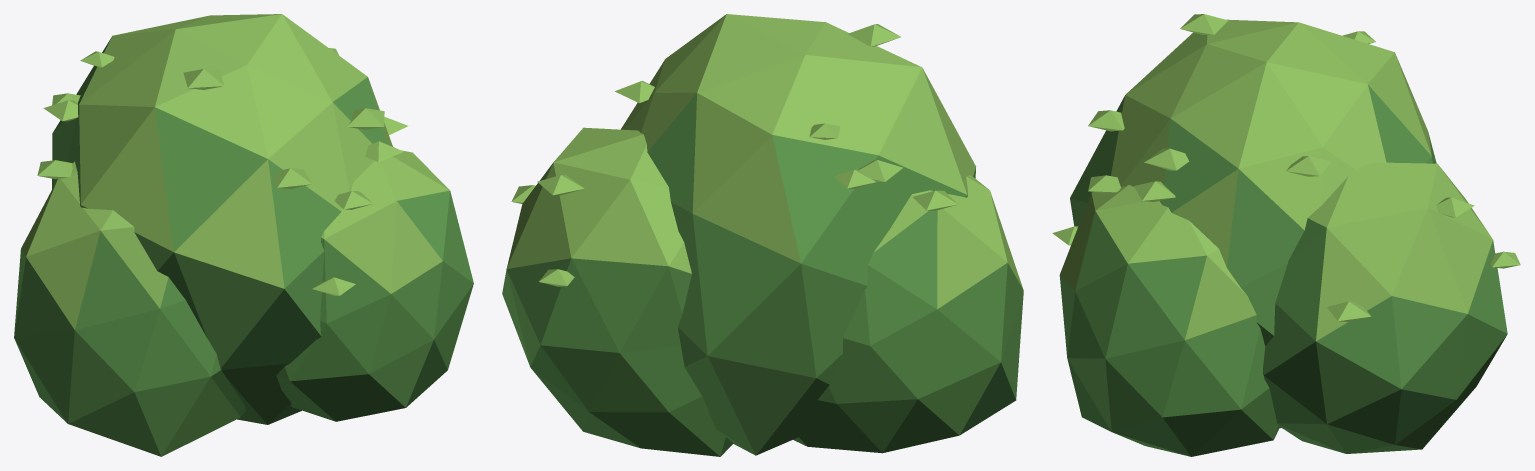
File: SC_Nat_Bush_Round_S.gltf
The picture shows the model from 3 angles, left to right: view 1: azimuth 30°, elevation 25°; view 2: azimuth 150°, elevation 25°; view 3: azimuth 270°, elevation 25°; orthographic projection. The views are drawn at different scales.
Visible parts, largest first — view 1: SC_Nat_Bush_Round_S; view 2: SC_Nat_Bush_Round_S; view 3: SC_Nat_Bush_Round_S.
Part boxes in pixels (<box>): SC_Nat_Bush_Round_S: <box>14,14,473,456</box>; SC_Nat_Bush_Round_S: <box>502,14,1023,456</box>; SC_Nat_Bush_Round_S: <box>1052,14,1520,456</box>.
Size of the model in its own units: 0.701 by 0.5669 by 0.6603.
1 material, 1 textured.
